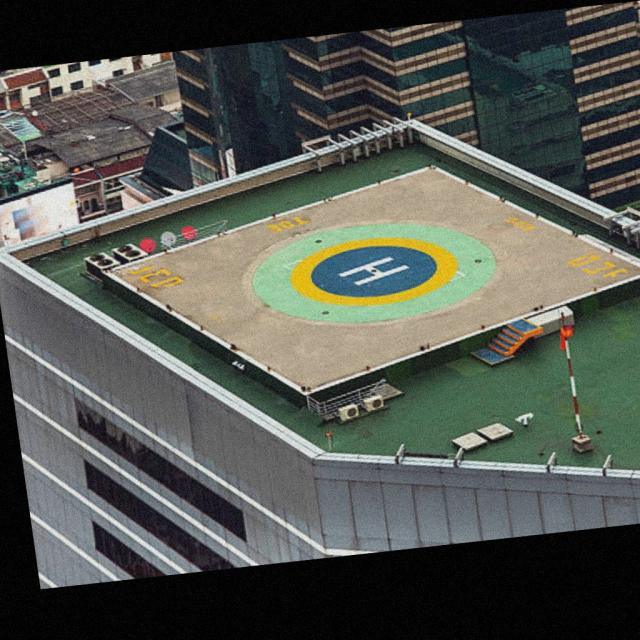helipad: (286, 230, 461, 308)
